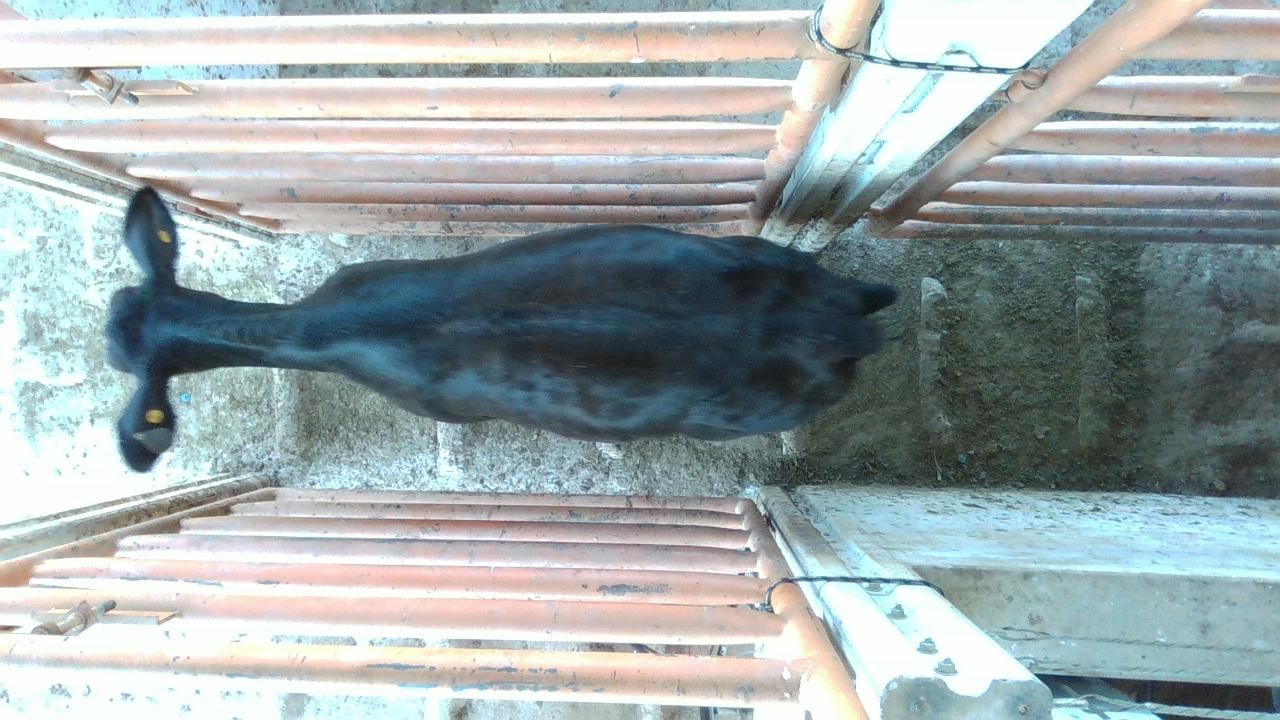cattle: (102, 184, 897, 471)
